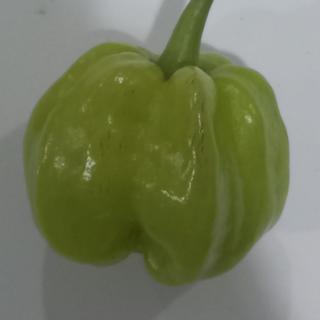Grade-B: (17, 34, 295, 292)
